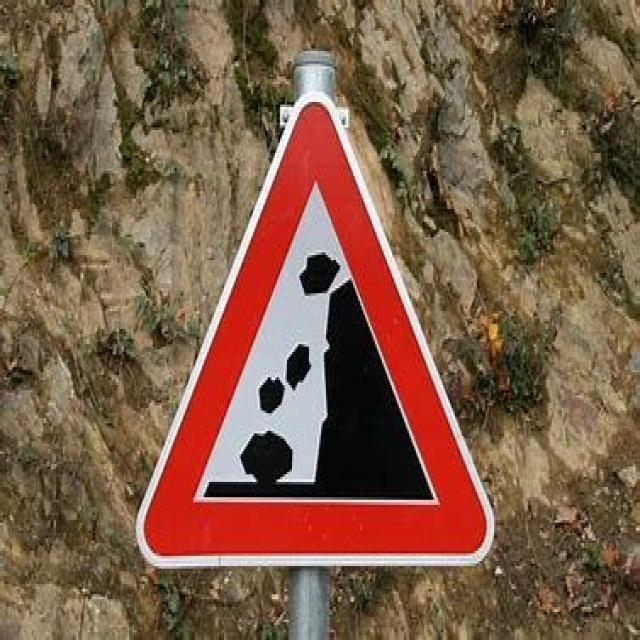falling rocks: (136, 92, 488, 560)
